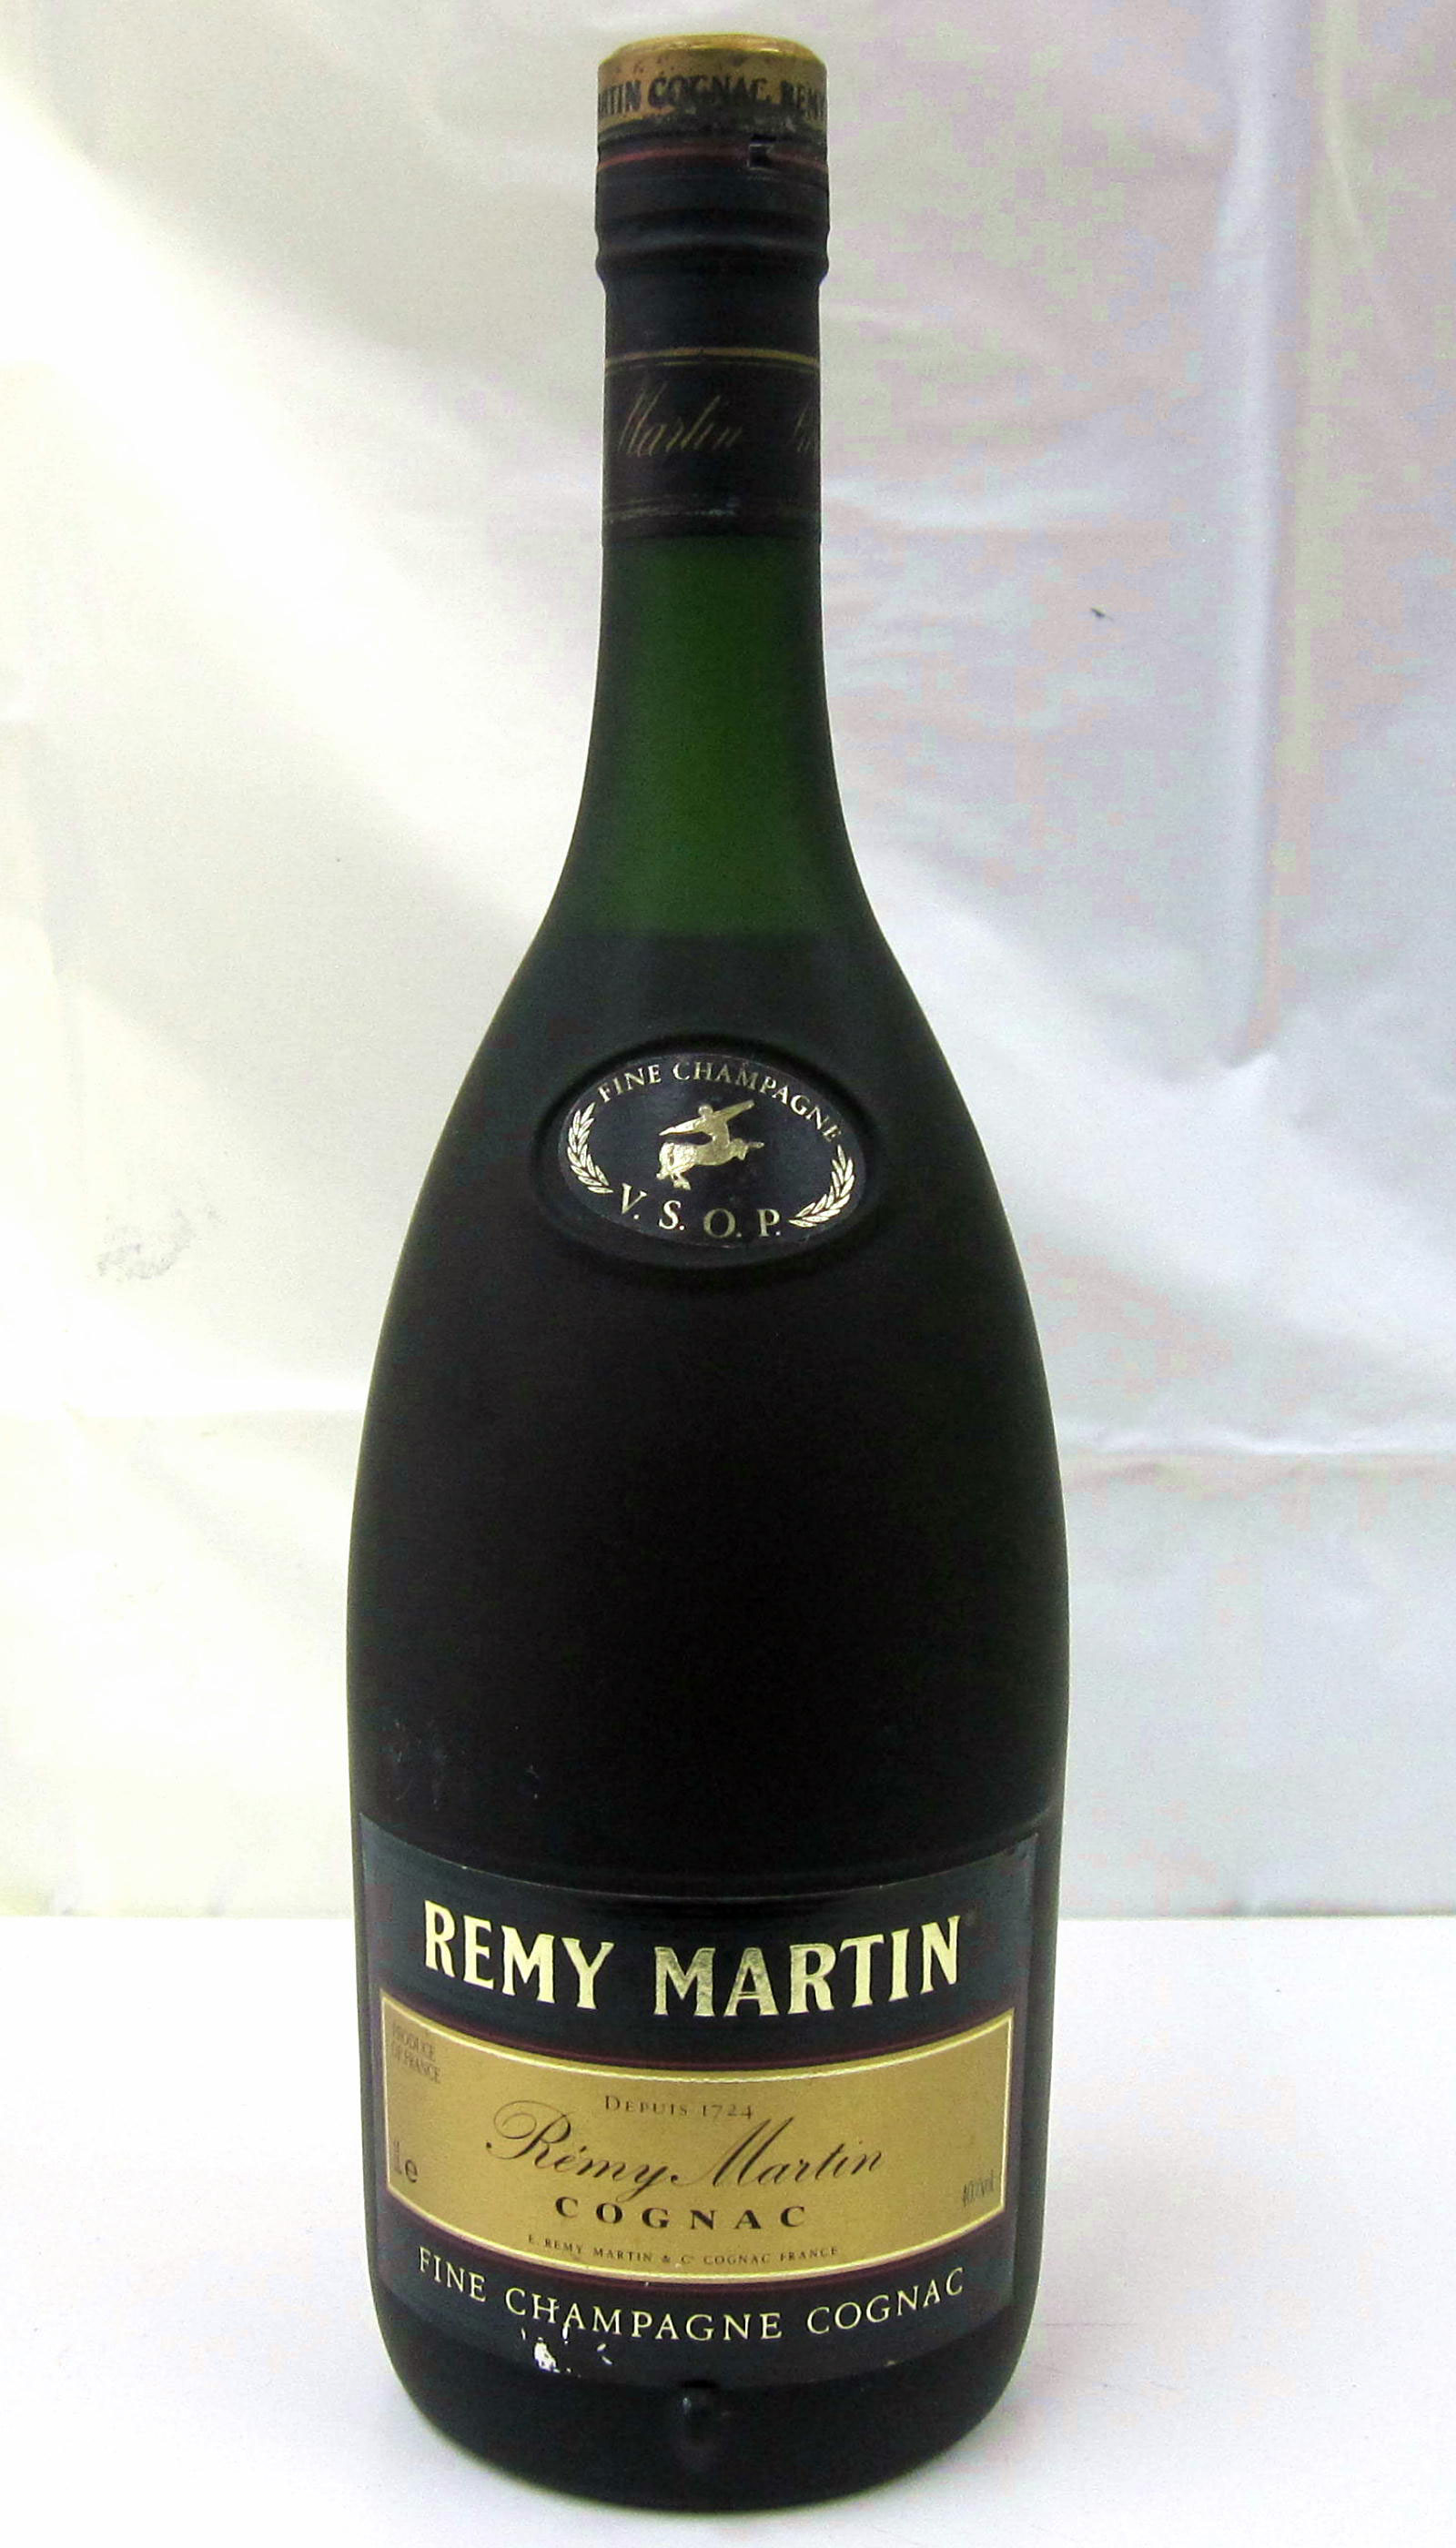Remy martin: (331, 2, 1097, 2537)
